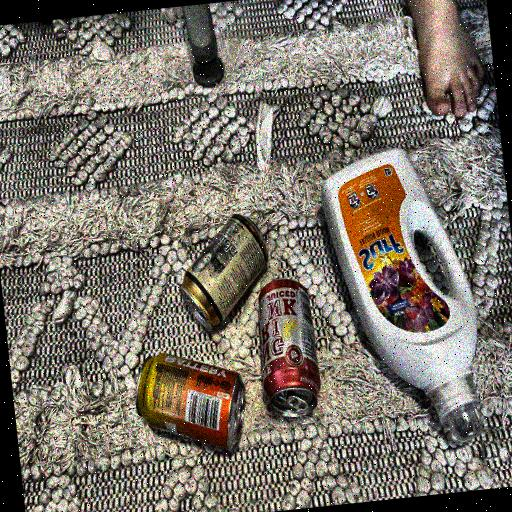koff: (249, 273, 328, 420)
sandels: (164, 204, 271, 336)
